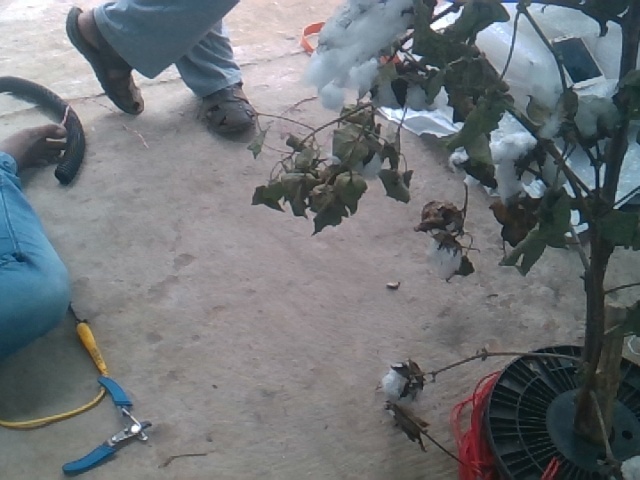cotton: (310, 1, 414, 107), (491, 130, 537, 196), (375, 71, 435, 110), (424, 241, 467, 282), (380, 362, 416, 405)
